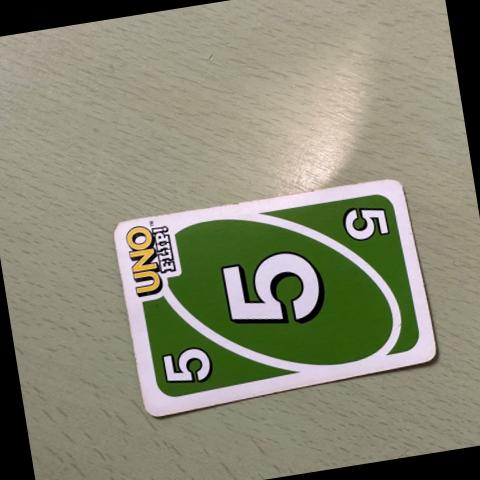reverse_blue: (220, 251, 326, 327), (159, 346, 214, 385), (342, 208, 389, 242)
